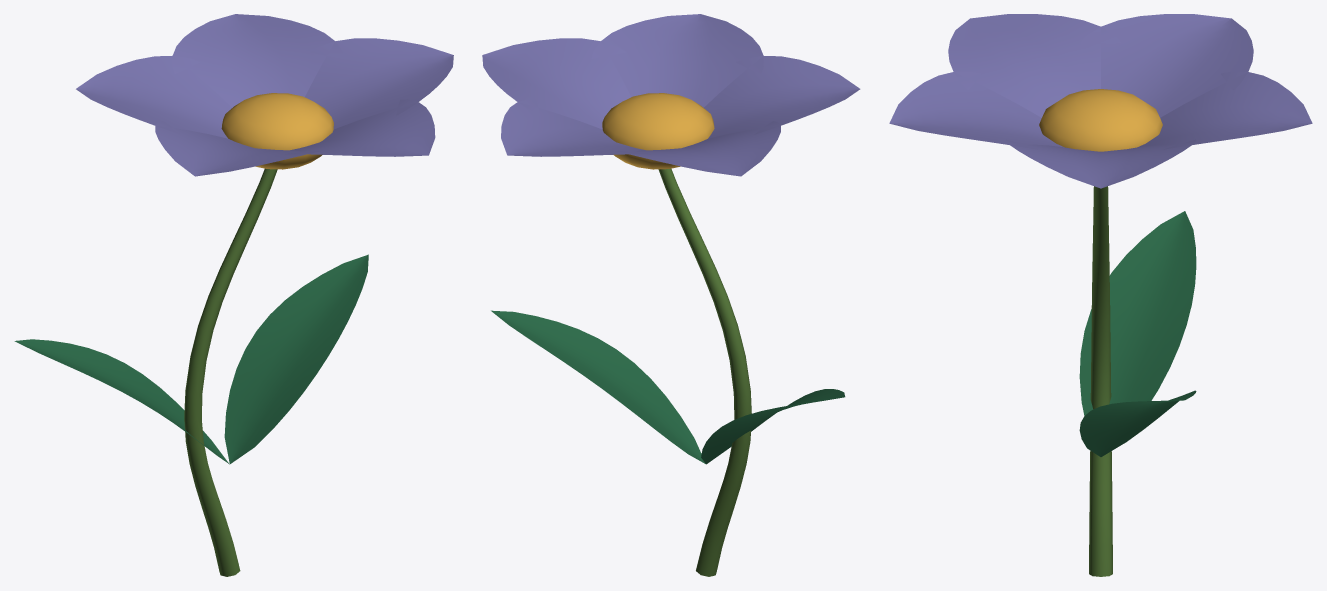
Rendered from flower_coral.glb.
3 views of the same model, side by side, from view 1: azimuth 30°, elevation 25°; view 2: azimuth 150°, elevation 25°; view 3: azimuth 270°, elevation 25° (orthographic). The views are drawn at different scales.
Visible parts, largest first — view 1: flower_coral; view 2: flower_coral; view 3: flower_coral.
Part boxes in pixels (left/top/right/bottom): flower_coral: left=14, top=14, right=453, bottom=576; flower_coral: left=482, top=14, right=860, bottom=576; flower_coral: left=889, top=14, right=1312, bottom=576.
Size of the model in its own units: 0.5696 by 0.6347 by 0.4753.
